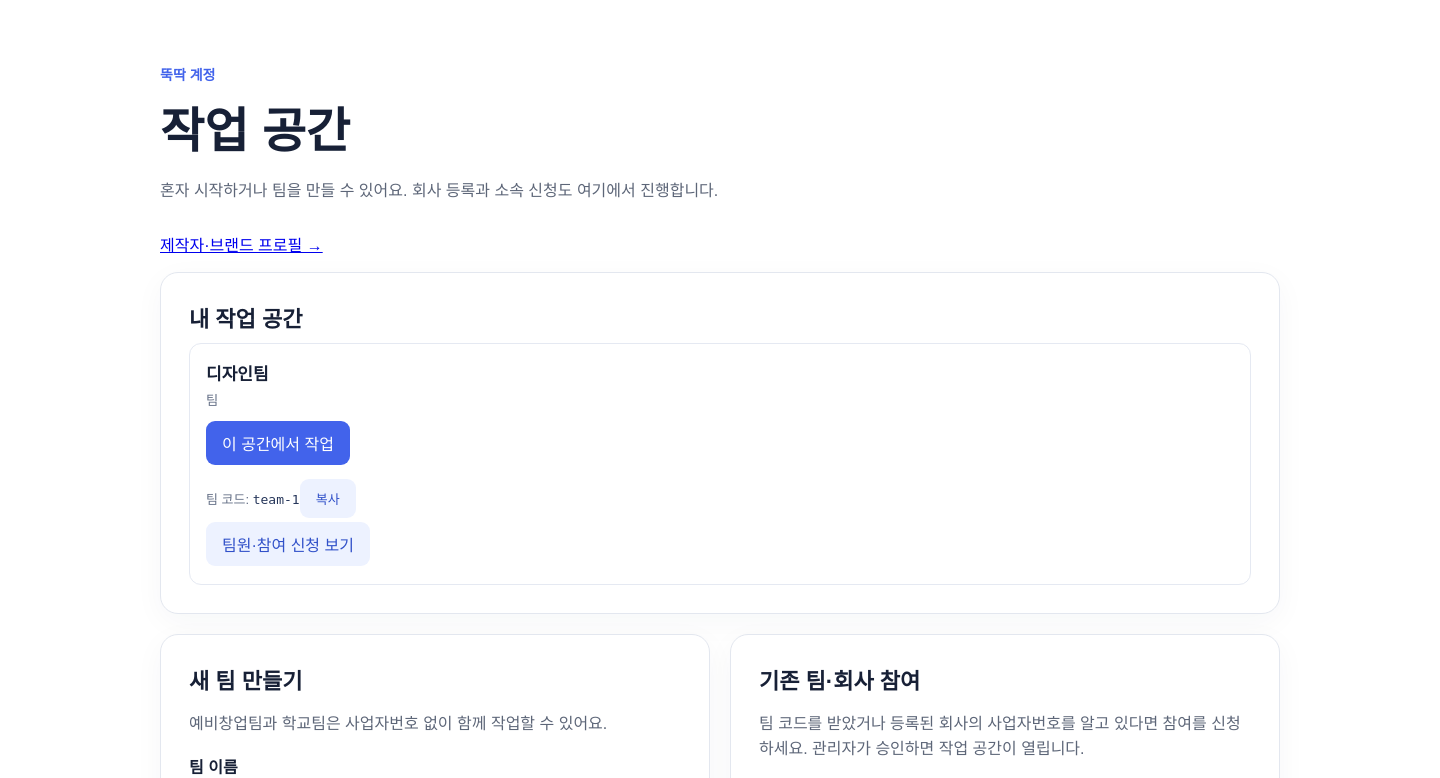
a non-success response does not remove a row
The image size is (1440, 778).
Click the button "팀원·참여 신청 보기" at (288, 544), box [206,522,370,566]
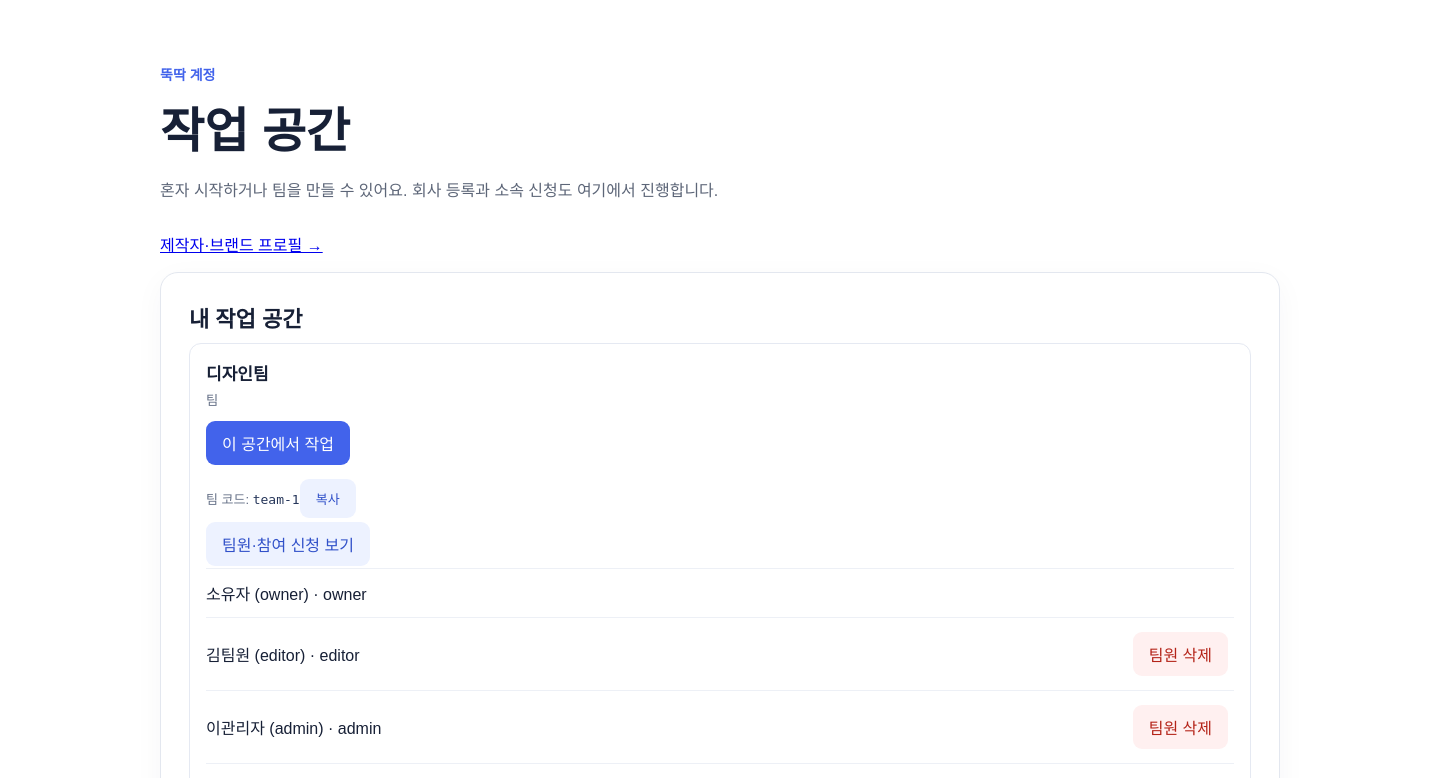
Expected: the text "김팀원 (editor) · editor" is shown, [206,642,360,666]
Click the button with aria-label "김팀원 팀원 삭제" at (1180, 654), box [1133,632,1228,676]
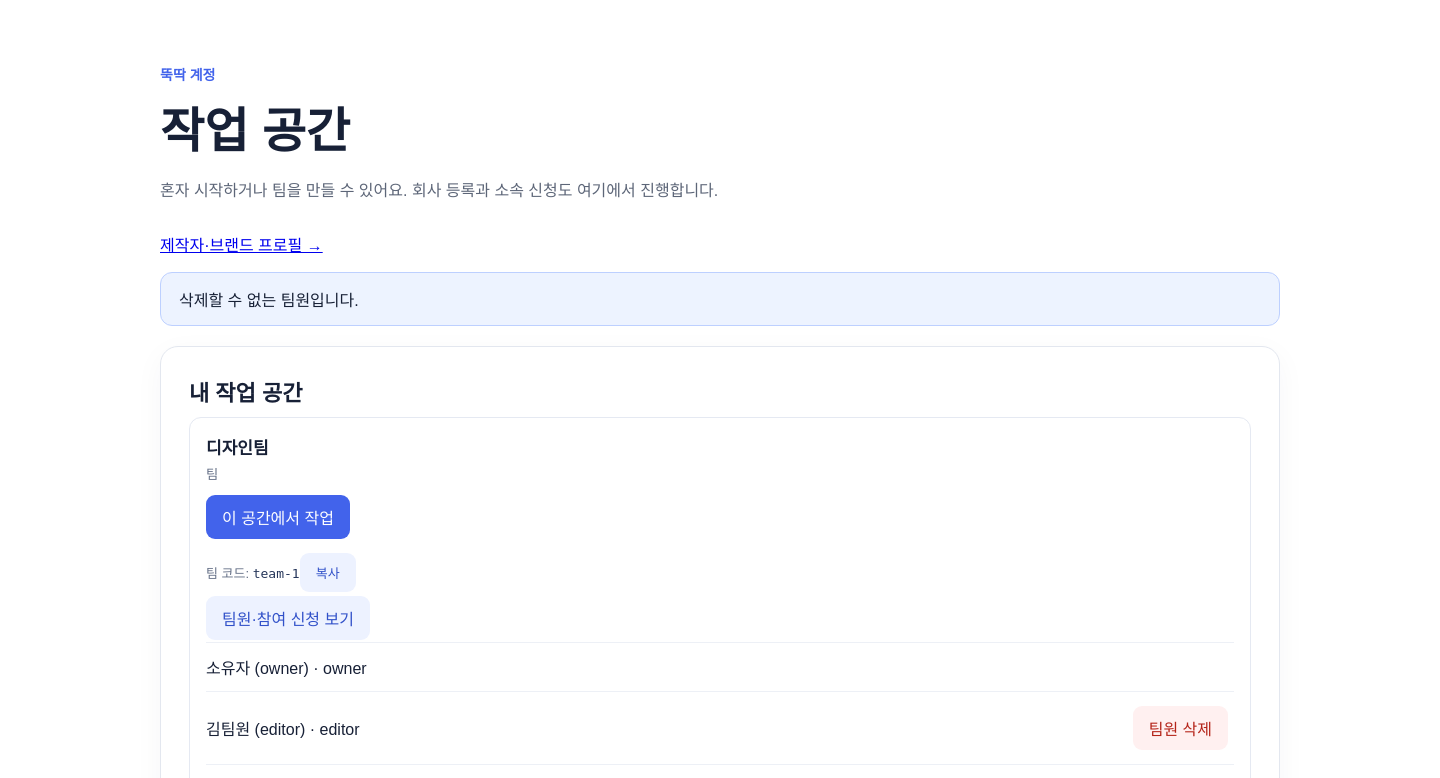
Expected: the text "김팀원 (editor) · editor" is shown, [206,716,360,740]
Expected: the message reads "삭제할 수 없는 팀원입니다.", [179,292,359,309]
